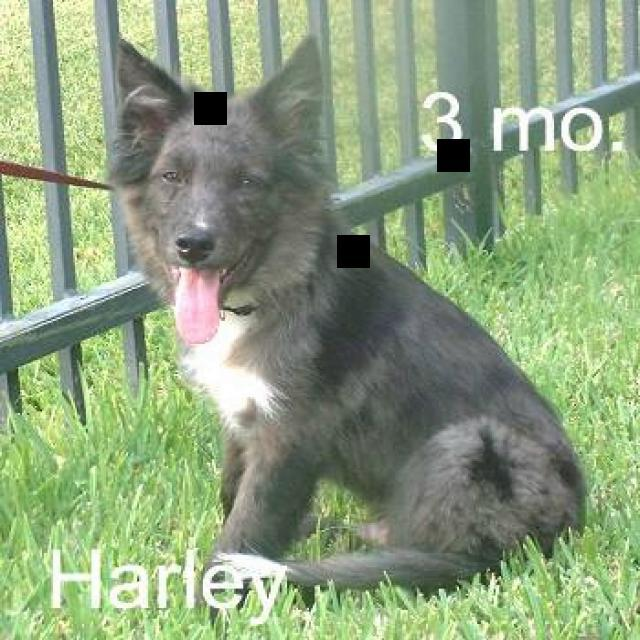puppy-dog: (95, 36, 589, 588)
